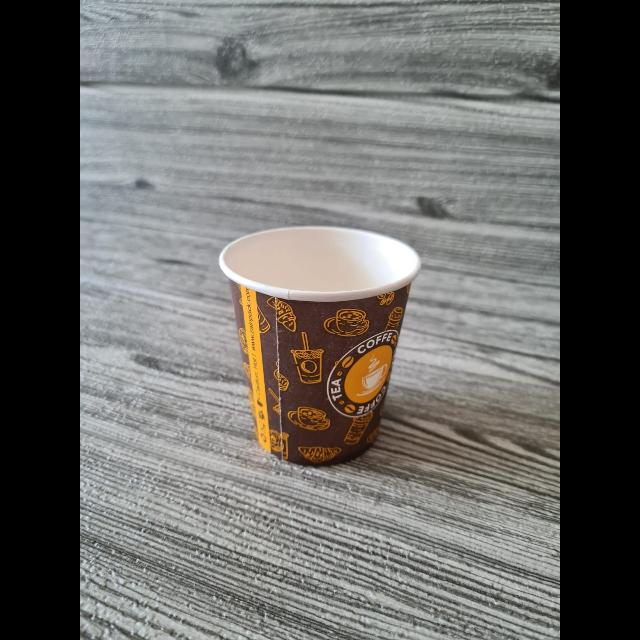trash: (216, 222, 422, 468)
